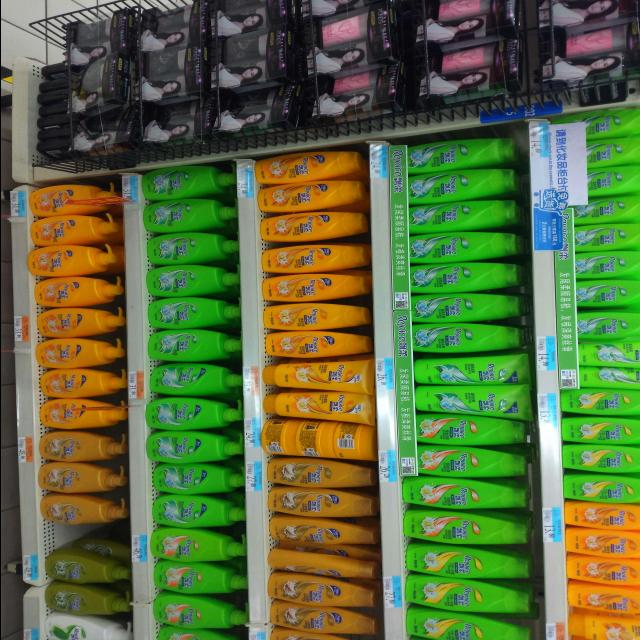empty_space: (40, 523, 111, 541)
